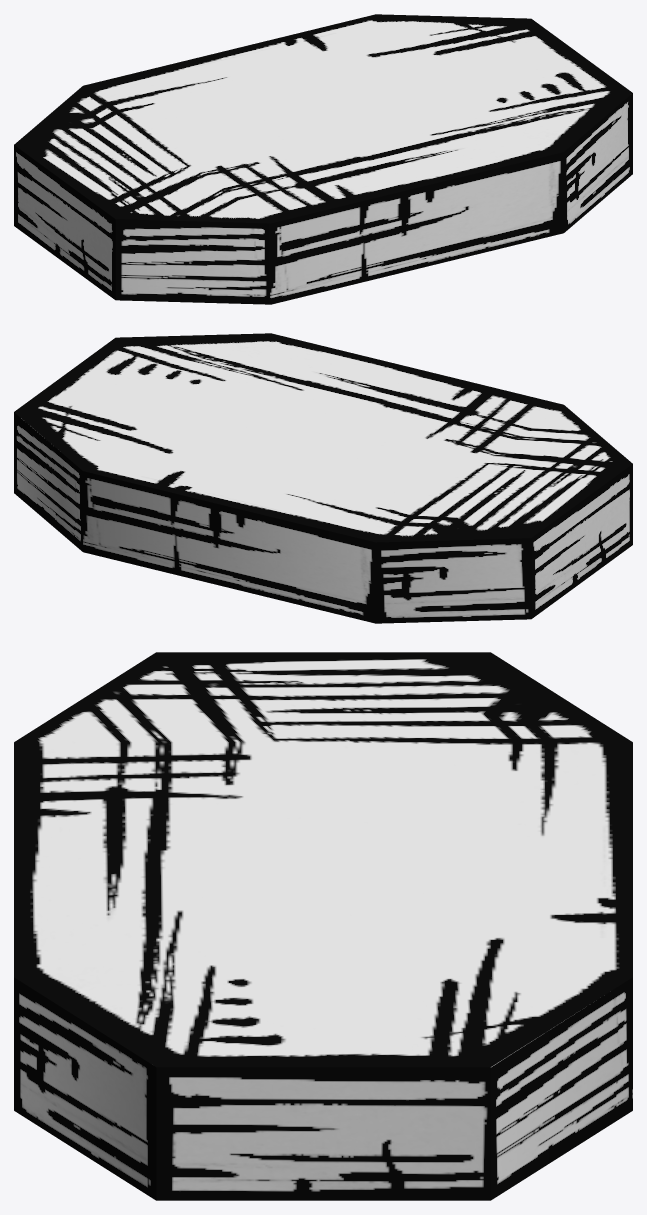
The model's file is pedestal.fbx.
3 views of the same model, one above another, from view 1: azimuth 30°, elevation 25°; view 2: azimuth 150°, elevation 25°; view 3: azimuth 270°, elevation 25° (orthographic). The views are drawn at different scales.
Parts seen in each view (by area): view 1: Box001; view 2: Box001; view 3: Box001.
Part boxes in pixels (x1,y1,x2,y2): Box001: (14, 14, 632, 304); Box001: (14, 333, 632, 623); Box001: (14, 652, 632, 1200).
Size of the model in its own units: 105 by 15.75 by 66.2.
